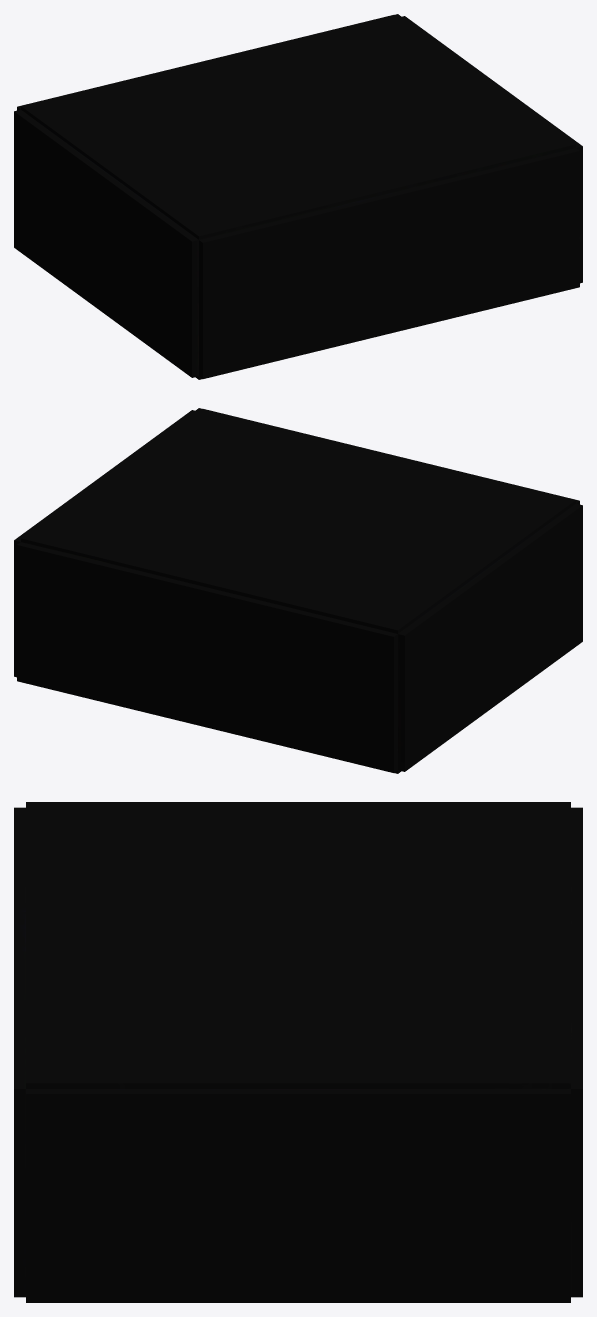
File: meeting.glb
3 views of the same model, one above another, from view 1: azimuth 30°, elevation 25°; view 2: azimuth 150°, elevation 25°; view 3: azimuth 270°, elevation 25° (orthographic). The views are drawn at different scales.
Parts seen in each view (by area): view 1: bake_room; view 2: bake_room; view 3: bake_room.
Part boxes in pixels (<box>): bake_room: <box>14,14,582,379</box>; bake_room: <box>14,408,582,773</box>; bake_room: <box>14,802,582,1302</box>.
Size of the model in its own units: 11.4 by 4 by 9.4.
Materials: 13 (6 with a texture image).
